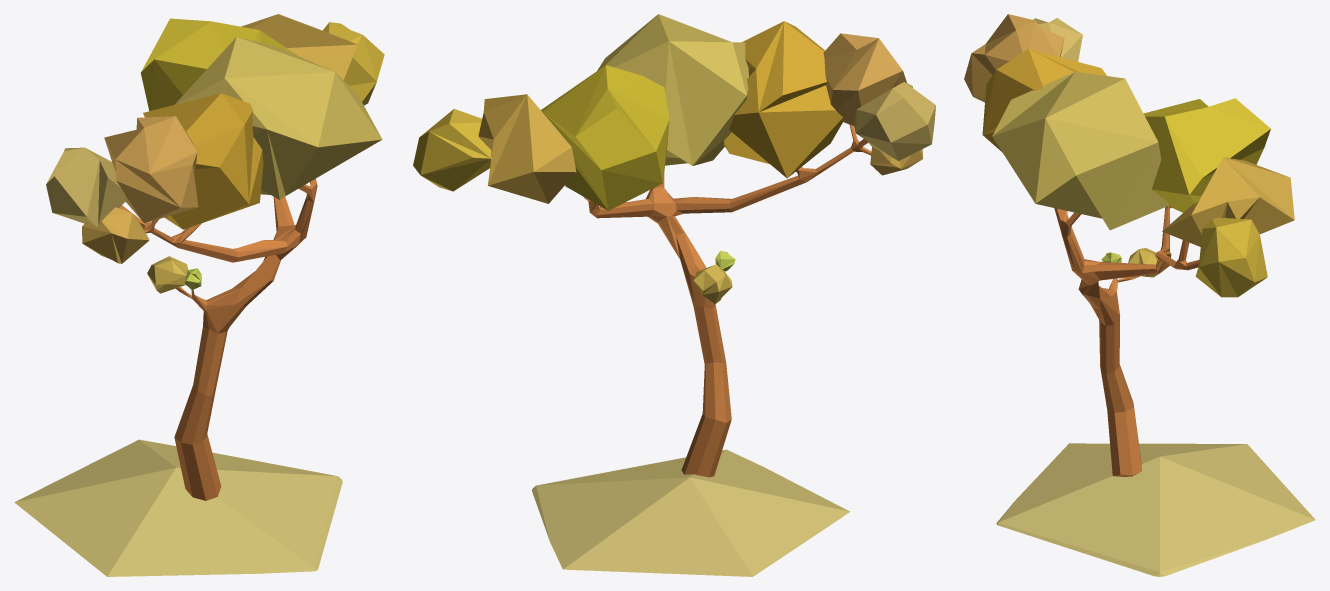
Rendered from Tree2.fbx.
3 views of the same model, side by side, from view 1: azimuth 30°, elevation 25°; view 2: azimuth 150°, elevation 25°; view 3: azimuth 270°, elevation 25° (orthographic). The views are drawn at different scales.
Parts seen in each view (by area): view 1: Tree1; view 2: Tree1; view 3: Tree1.
Part boxes in pixels (x1,y1,x2,y2): Tree1: [14, 14, 384, 576]; Tree1: [413, 14, 935, 576]; Tree1: [964, 14, 1315, 576].
Bounding box in the file's own units: 344 × 372 × 267.
